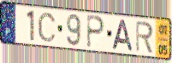1: (25, 10, 37, 42)
9: (65, 13, 83, 48)
A: (111, 19, 134, 53)
C: (37, 12, 58, 44)
P: (86, 14, 106, 50)
R: (135, 20, 155, 55)
